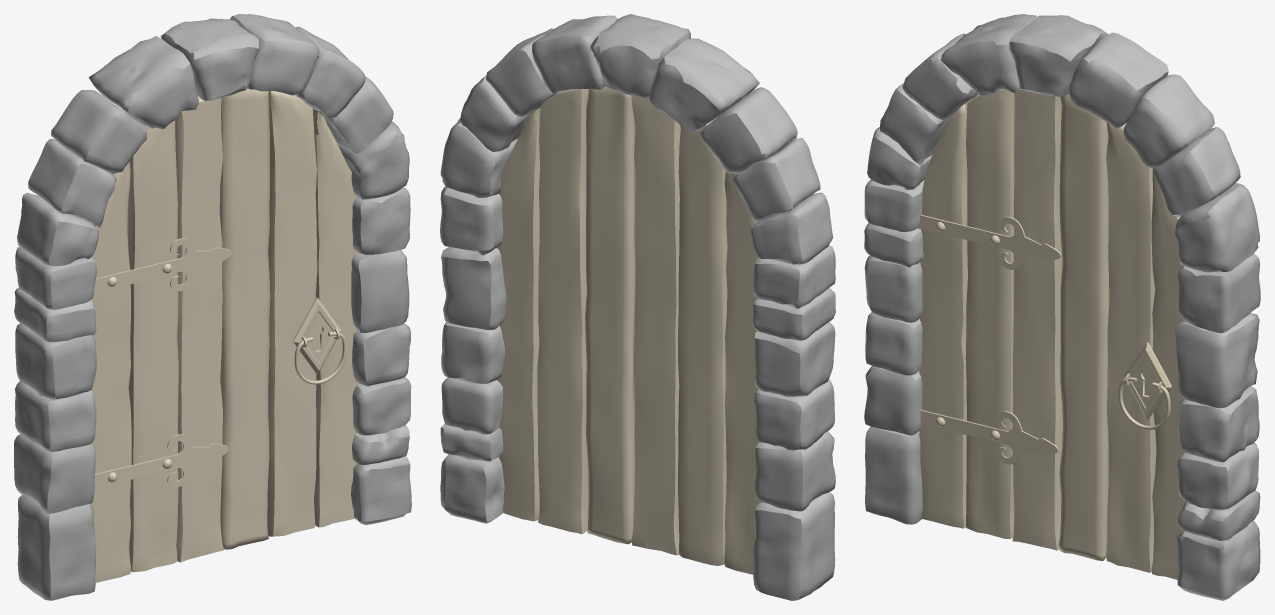
Rendered from door.fbx.
3 views of the same model, side by side, from view 1: azimuth 30°, elevation 25°; view 2: azimuth 150°, elevation 25°; view 3: azimuth 330°, elevation 25° (orthographic).
Visible parts, largest first — view 1: Door_low.028, Door_low.008; view 2: Door_low.028, Door_low.008; view 3: Door_low.028, Door_low.008.
Boxes of the visible parts, bbox=[...] form: Door_low.028: bbox=[90, 88, 359, 582]; Door_low.008: bbox=[14, 14, 411, 600]; Door_low.028: bbox=[496, 87, 760, 574]; Door_low.008: bbox=[440, 14, 835, 600]; Door_low.028: bbox=[918, 88, 1185, 579]; Door_low.008: bbox=[864, 14, 1260, 600].
Bounding box in the file's own units: 1194 × 1594 × 230.
